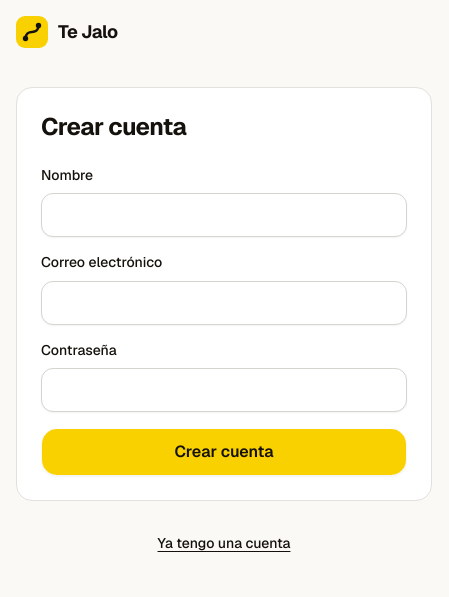
Test: sign-up page › rejects a password shorter than 8 characters
Type "Ana Quispe" into the field labelled "Nombre" at [224, 215], box [41,193,407,237]
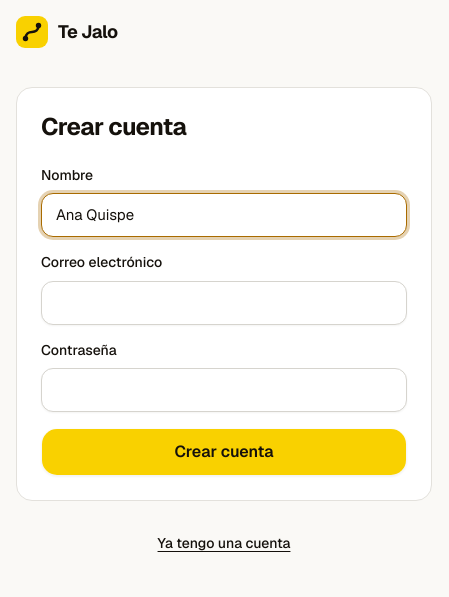
Type "ana@uni.edu.pe" into the field labelled "Correo electrónico" at [224, 302], box [41,280,407,324]
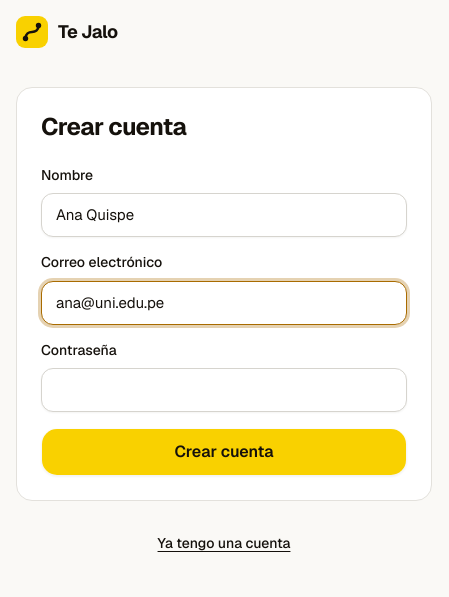
Type "1234567" into the password field labelled "Contraseña" at [224, 390], box [41,368,407,412]
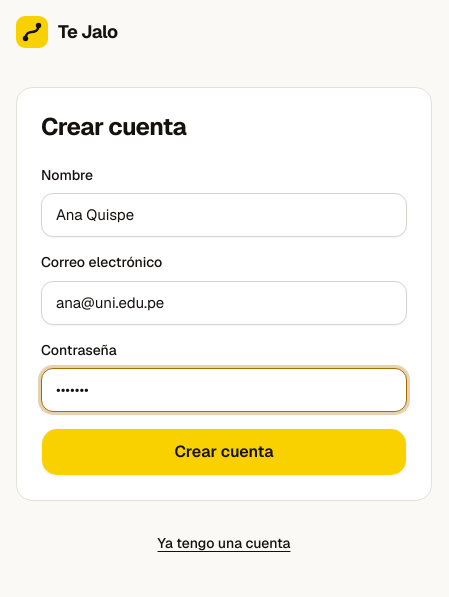
Click the button "Crear cuenta" at [224, 452], box [41,428,407,476]
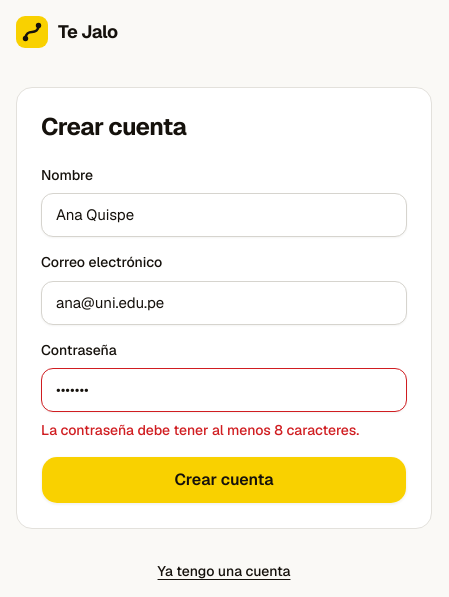
Check: the text "La contraseña debe tener al menos 8 caracteres." is shown, box [41,420,407,440]
